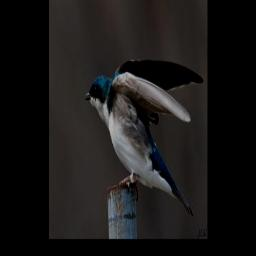Swallow: (83, 55, 204, 220)
